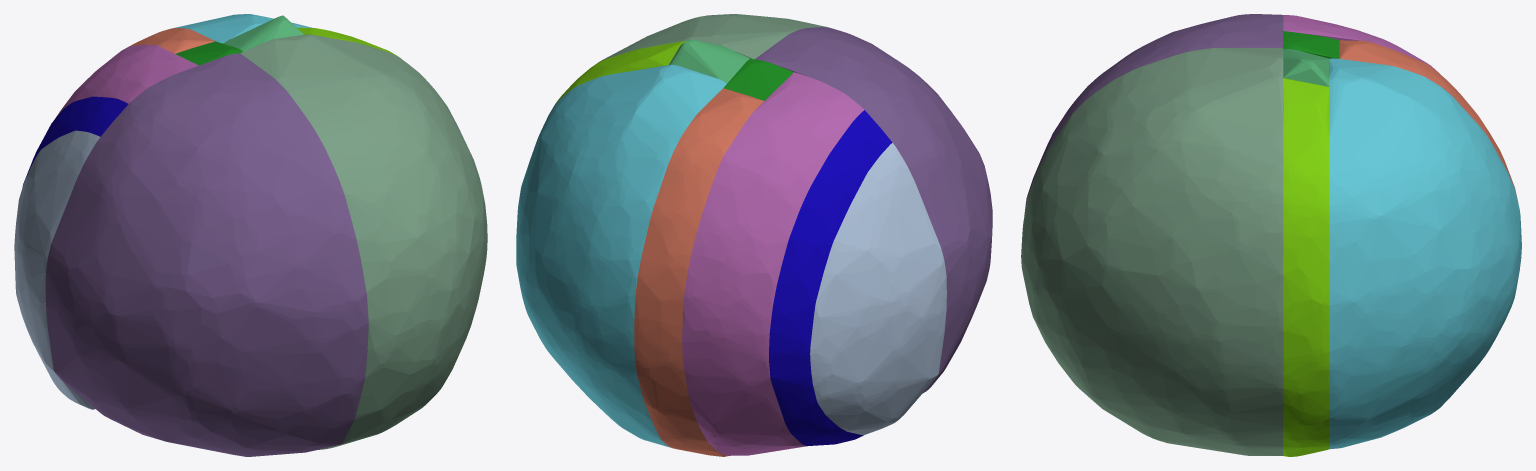
Rendered from coacd_collision.obj.
The picture shows the model from 3 angles, left to right: view 1: azimuth 30°, elevation 25°; view 2: azimuth 150°, elevation 25°; view 3: azimuth 270°, elevation 25°; orthographic projection. The views are drawn at different scales.
Parts seen in each view (by area): view 1: geometry_1, geometry_0, geometry_6, geometry_7, geometry_5, geometry_2, geometry_3, geometry_9, geometry_8, geometry_4; view 2: geometry_2, geometry_7, geometry_6, geometry_1, geometry_9, geometry_5, geometry_0, geometry_3, geometry_4, geometry_8; view 3: geometry_0, geometry_2, geometry_4, geometry_1, geometry_9, geometry_7, geometry_3, geometry_8.
Boxes of the visible parts, <box> form: geometry_1: <box>45,53,368,456</box>; geometry_0: <box>240,34,487,449</box>; geometry_6: <box>14,130,100,409</box>; geometry_7: <box>54,44,198,119</box>; geometry_5: <box>22,96,128,186</box>; geometry_2: <box>175,14,312,43</box>; geometry_3: <box>223,15,304,51</box>; geometry_9: <box>130,28,214,53</box>; geometry_8: <box>175,41,242,65</box>; geometry_4: <box>297,27,399,57</box>; geometry_2: <box>516,64,726,447</box>; geometry_7: <box>682,72,864,455</box>; geometry_6: <box>810,143,946,435</box>; geometry_1: <box>755,27,992,392</box>; geometry_9: <box>634,88,763,456</box>; geometry_5: <box>769,110,892,445</box>; geometry_0: <box>598,14,827,62</box>; geometry_3: <box>669,39,750,83</box>; geometry_4: <box>553,41,685,107</box>; geometry_8: <box>723,58,793,100</box>; geometry_0: <box>1021,48,1283,455</box>; geometry_2: <box>1329,58,1521,449</box>; geometry_4: <box>1283,78,1329,456</box>; geometry_1: <box>1024,14,1283,212</box>; geometry_9: <box>1339,40,1519,269</box>; geometry_7: <box>1283,15,1439,73</box>; geometry_3: <box>1283,49,1329,86</box>; geometry_8: <box>1283,31,1339,58</box>.
Bounding box in the file's own units: 68.38 × 59.53 × 71.33.
